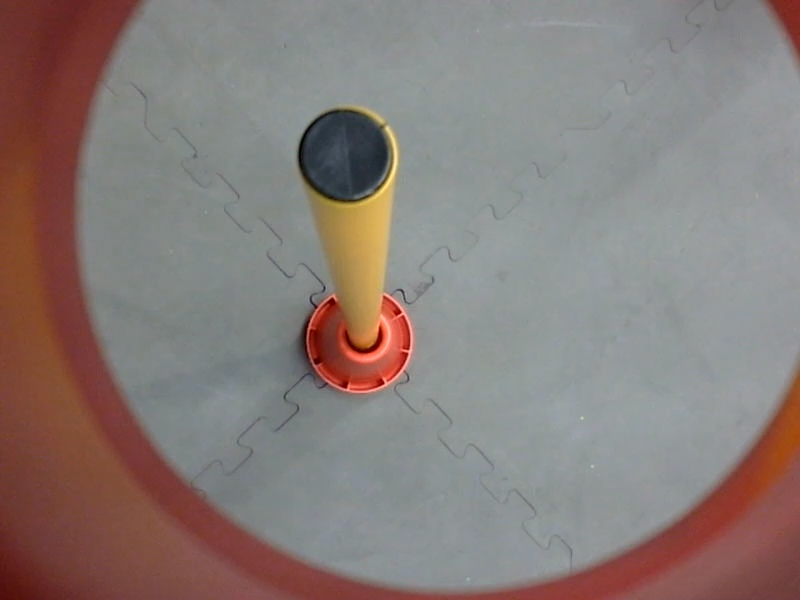tip: (287, 100, 406, 212)
